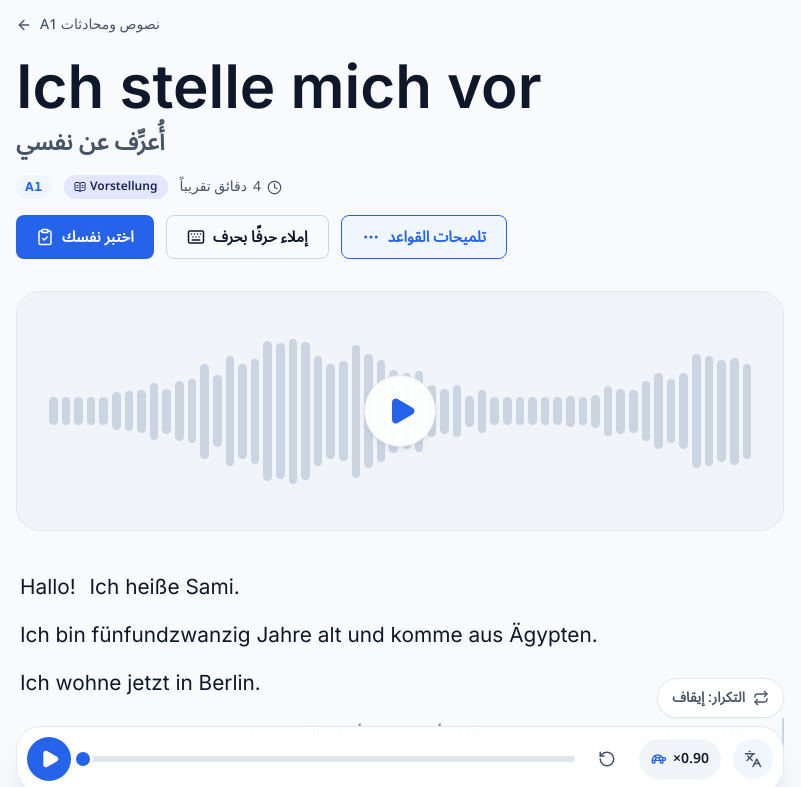
Test: StoryPage — reading text › shows the Arabic translations by default and hides them with the translation switch
Expected: the text "مرحبًا! اسمي سامي. عمري خمسة وعشرون عامًا، وأنا من مصر. أسكن الآن في برلين." is shown, [16,718,784,750]
Click the button named "الترجمة العربية". click: {"x": 753, "y": 759}
box: [733,739,773,779]
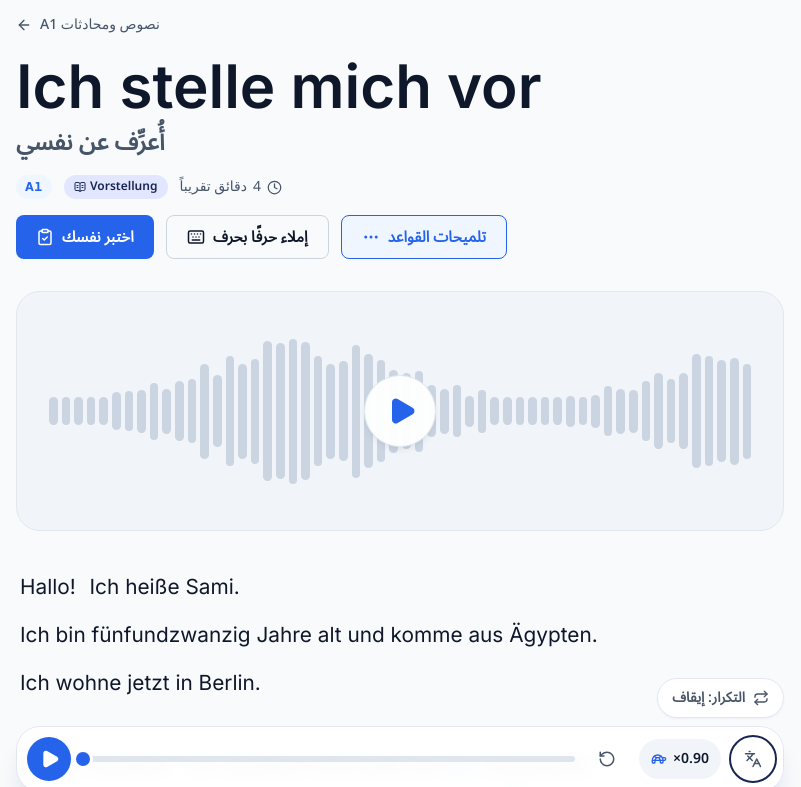
Result: the text "مرحبًا! اسمي سامي. عمري خمسة وعشرون عامًا، وأنا من مصر. أسكن الآن في برلين." is gone
